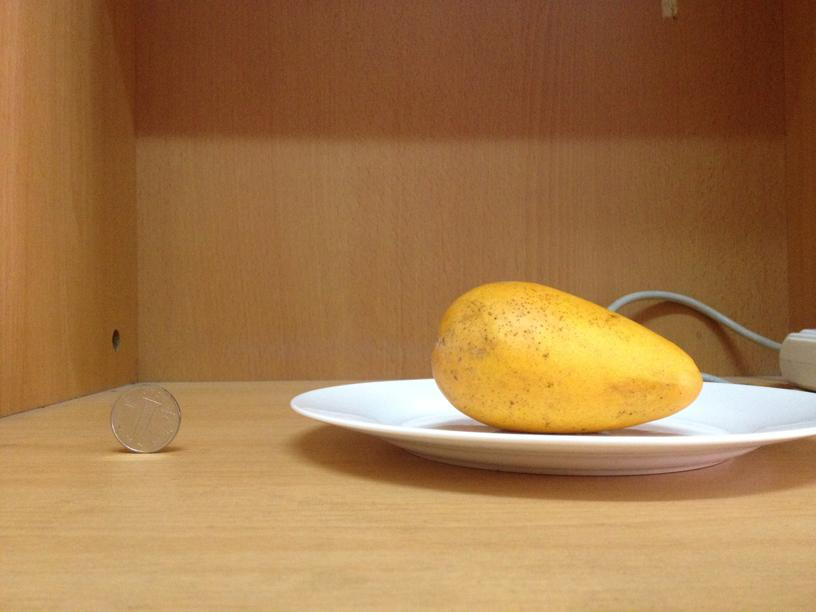coin: (108, 383, 181, 453)
mango: (437, 279, 700, 432)
